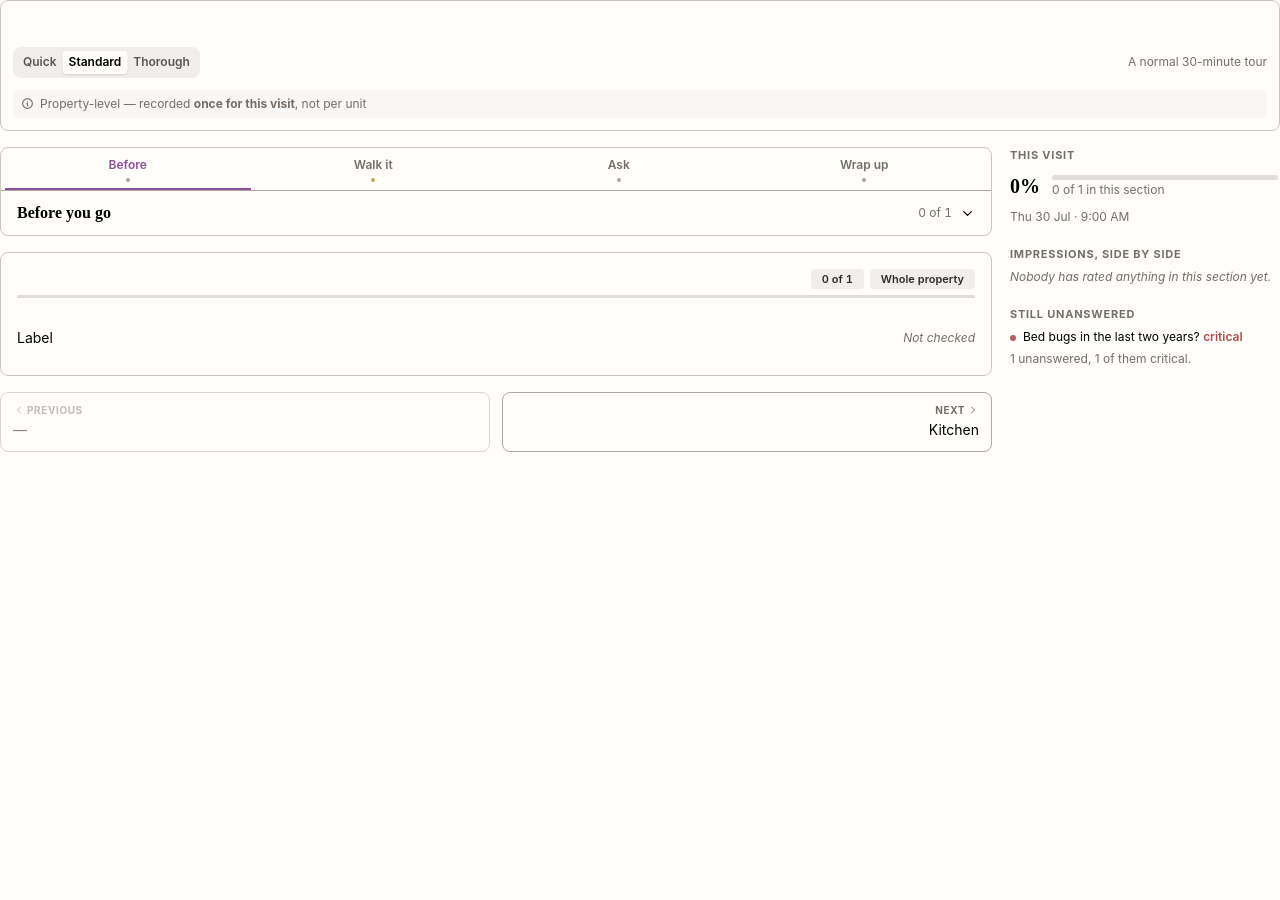
read-only › shows only the Fact option that was chosen
The width and height of the screenshot is (1280, 900).
Click the button "Before you go 0 of 1" at (64, 212), box [13, 191, 979, 235]
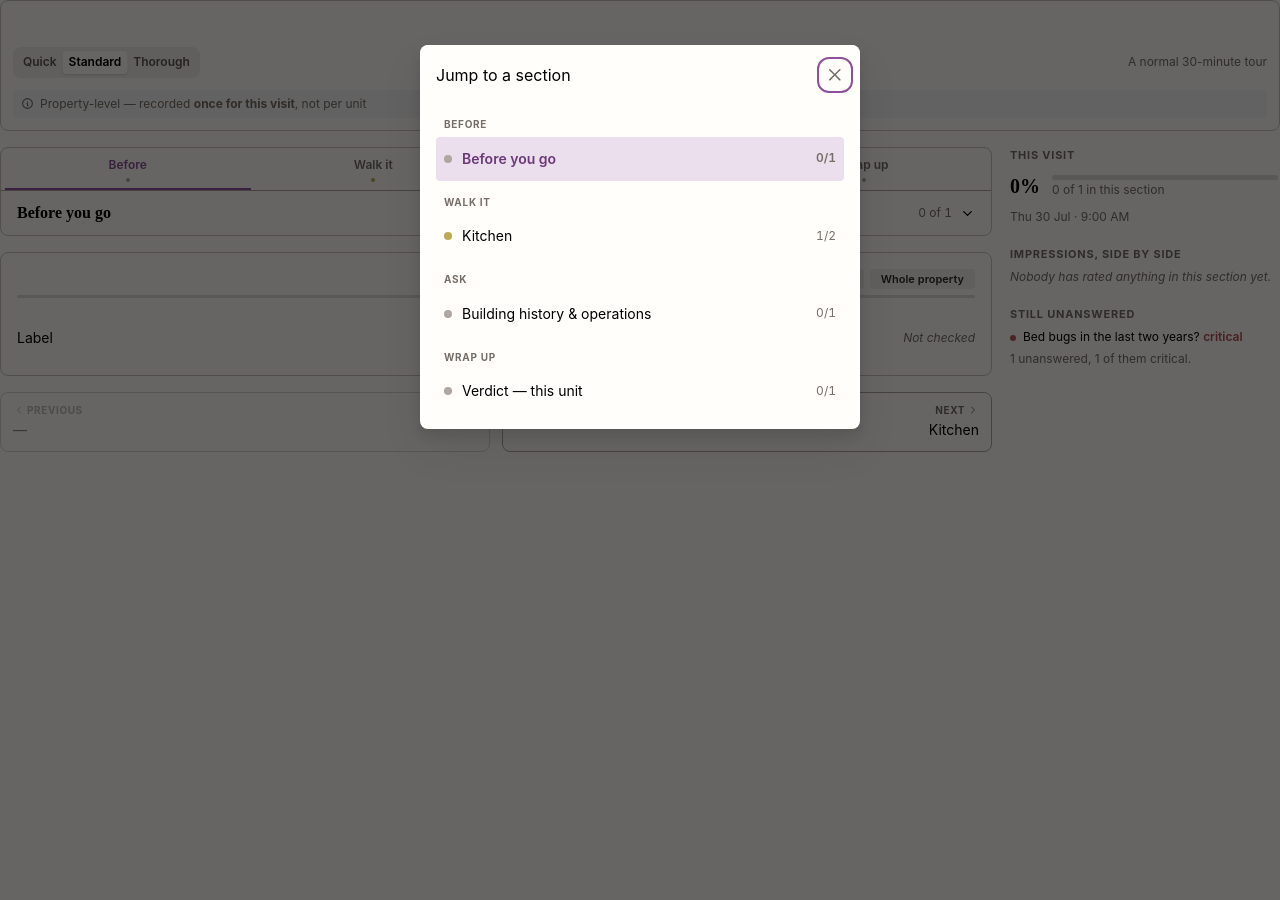
Click the button "Kitchen 1/2" at (487, 236), box [436, 214, 844, 258]
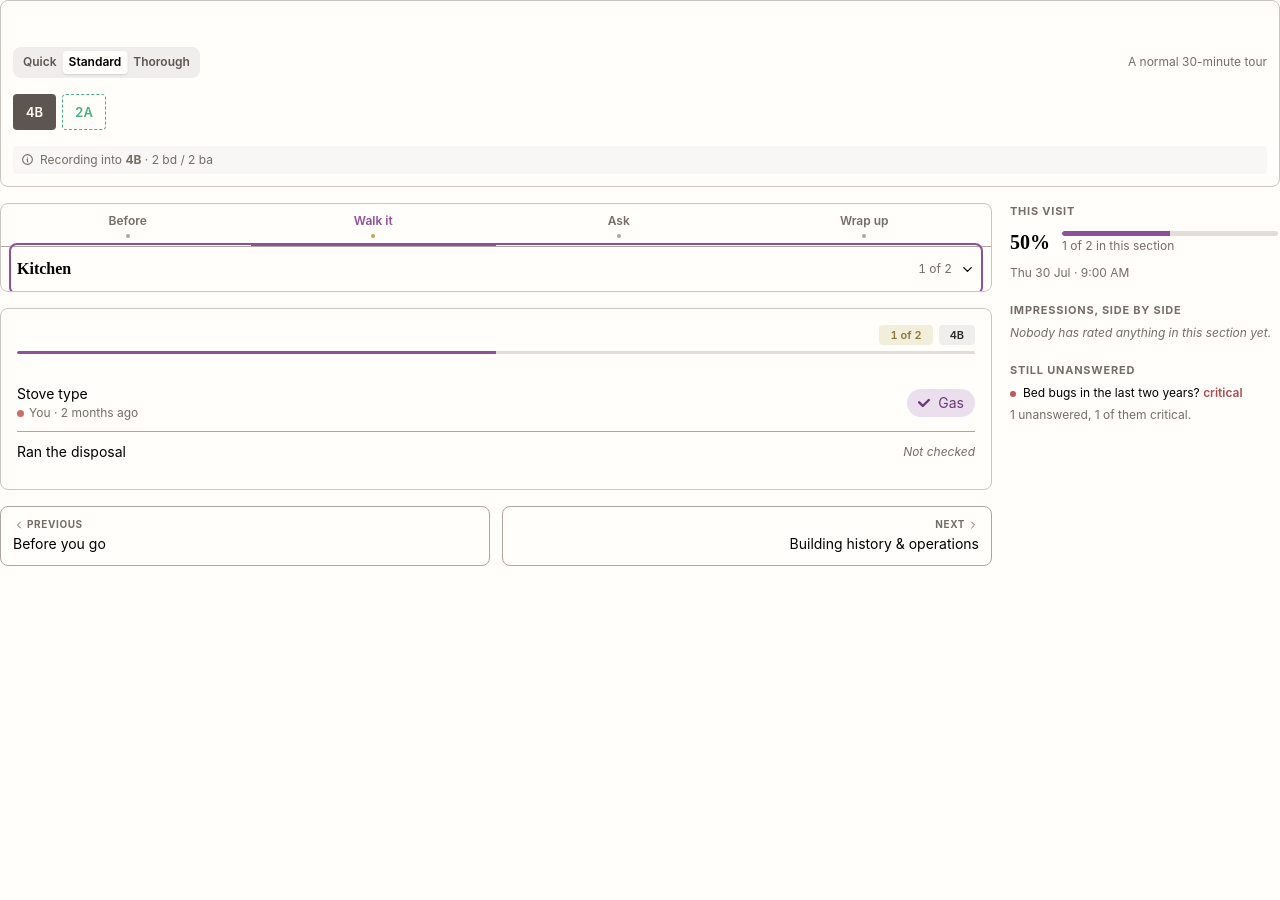
Check: the text "Gas" is shown, box [938, 390, 964, 416]
